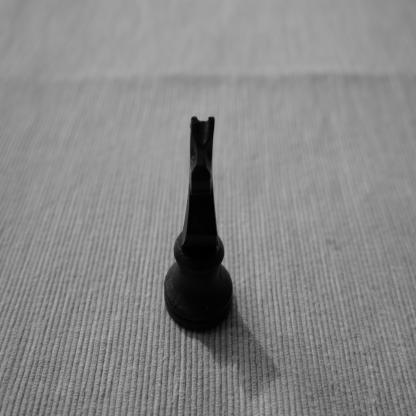black-knight: (163, 114, 233, 335)
